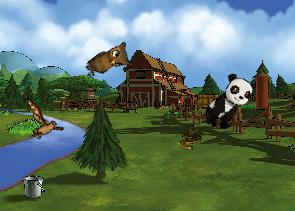eagle: (13, 96, 70, 147)
owl: (83, 37, 137, 87)
panda: (199, 69, 258, 136)
